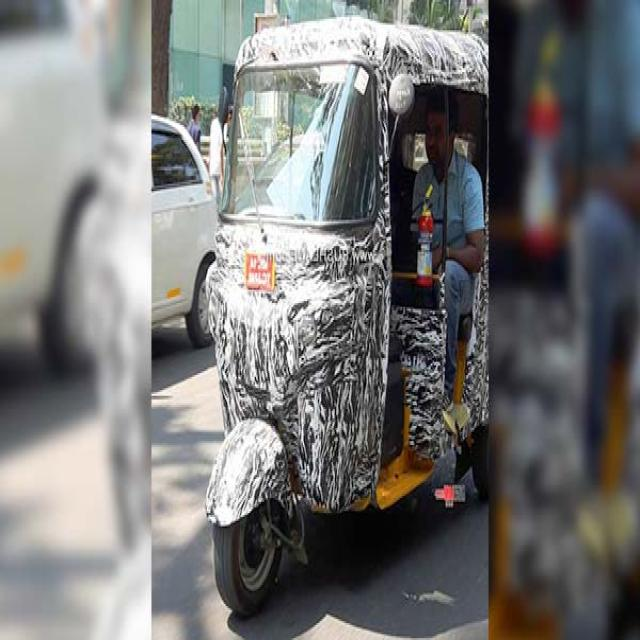autorickshaw: (206, 18, 489, 616)
